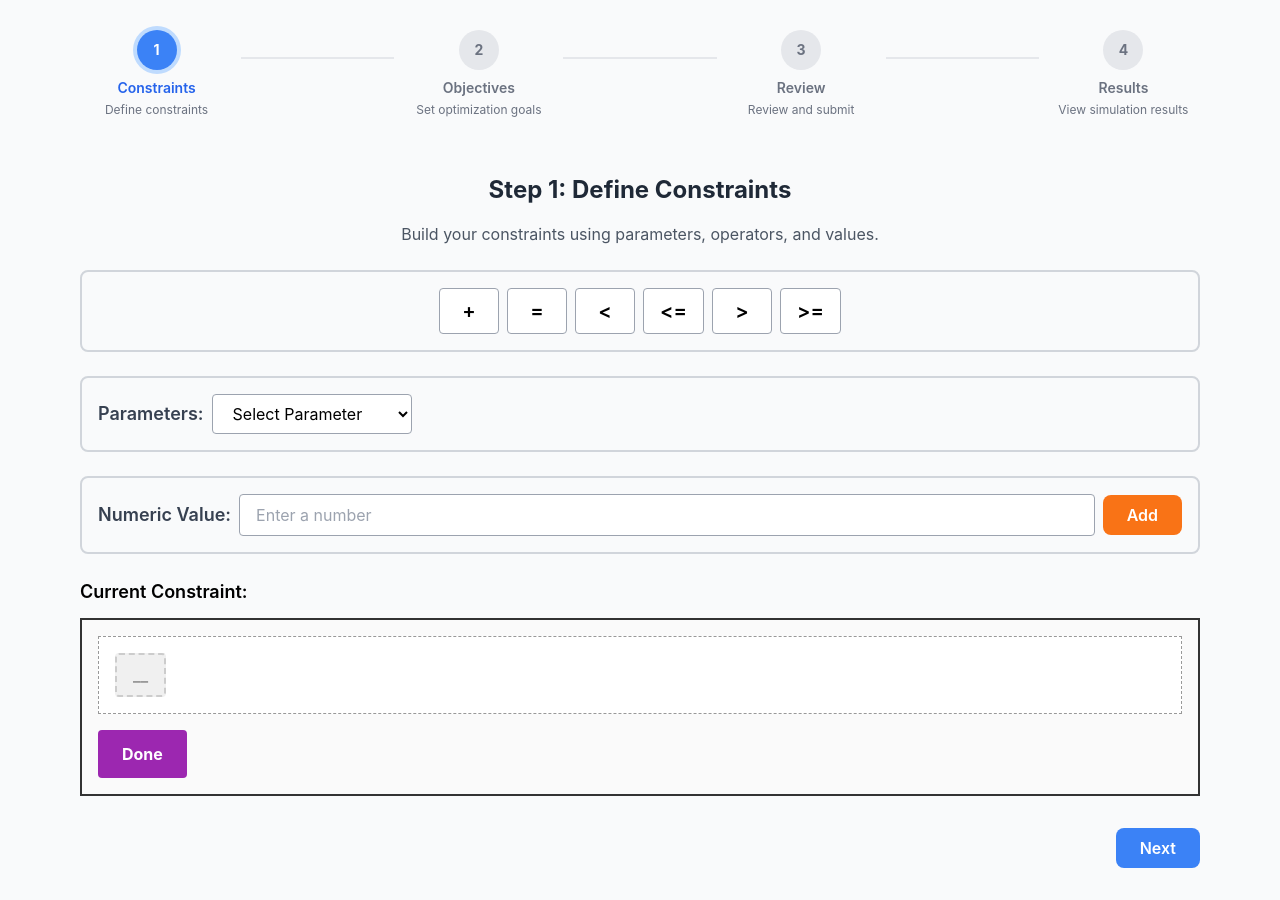
Test: Multi-Step Form Navigation › navigates back to Constraints when Back clicked
This screenshot has width=1280, height=900.
(page scrolled)
Go to step 2
Click the button with test id "next-button" at (1158, 848), box left=1116, top=828, right=1200, bottom=868
(page scrolled)
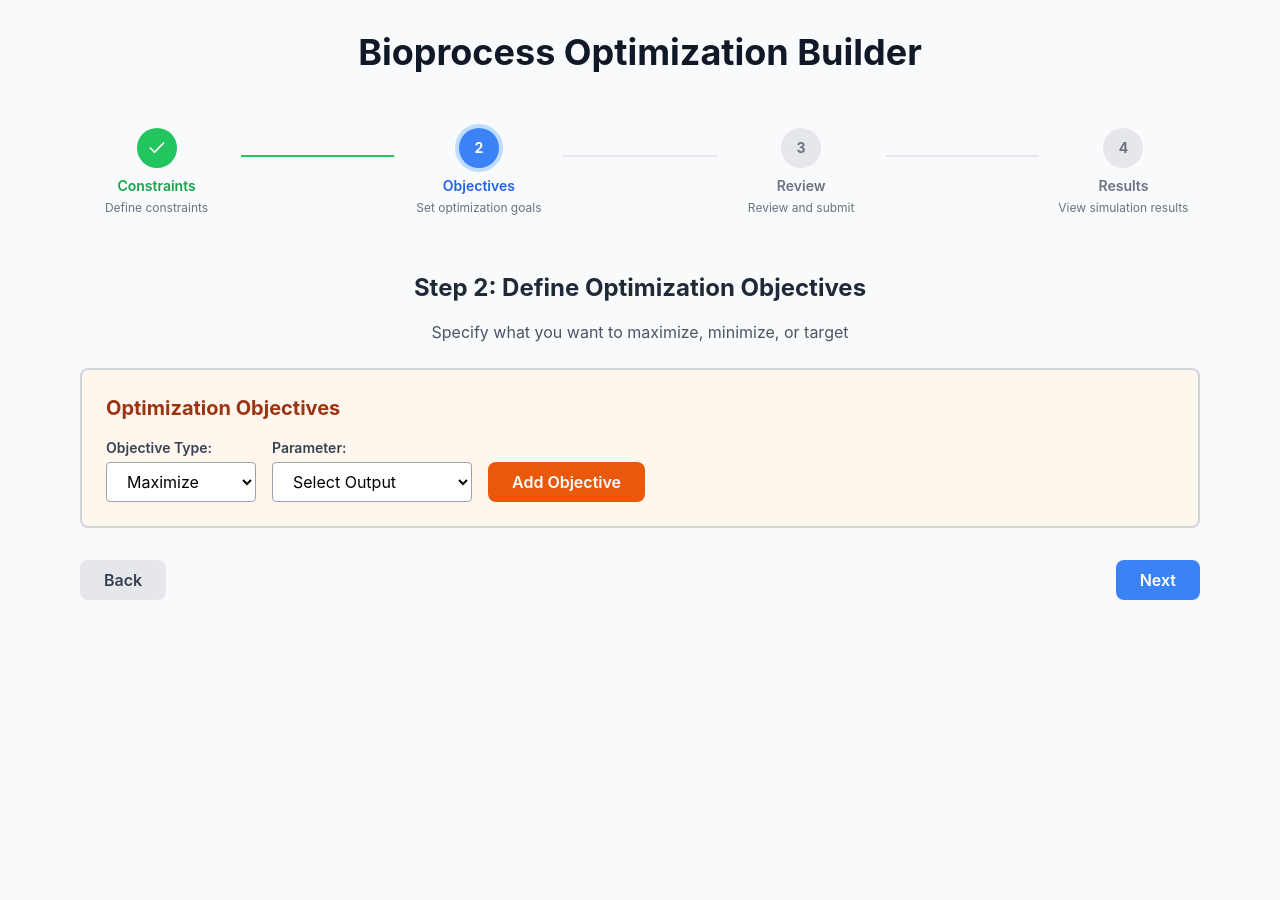
Check: the heading "Step 2: Define Optimization Objectives" is shown, box left=414, top=273, right=866, bottom=302
Go back to step 1
Click the button with test id "back-button" at (123, 580), box left=80, top=560, right=166, bottom=600
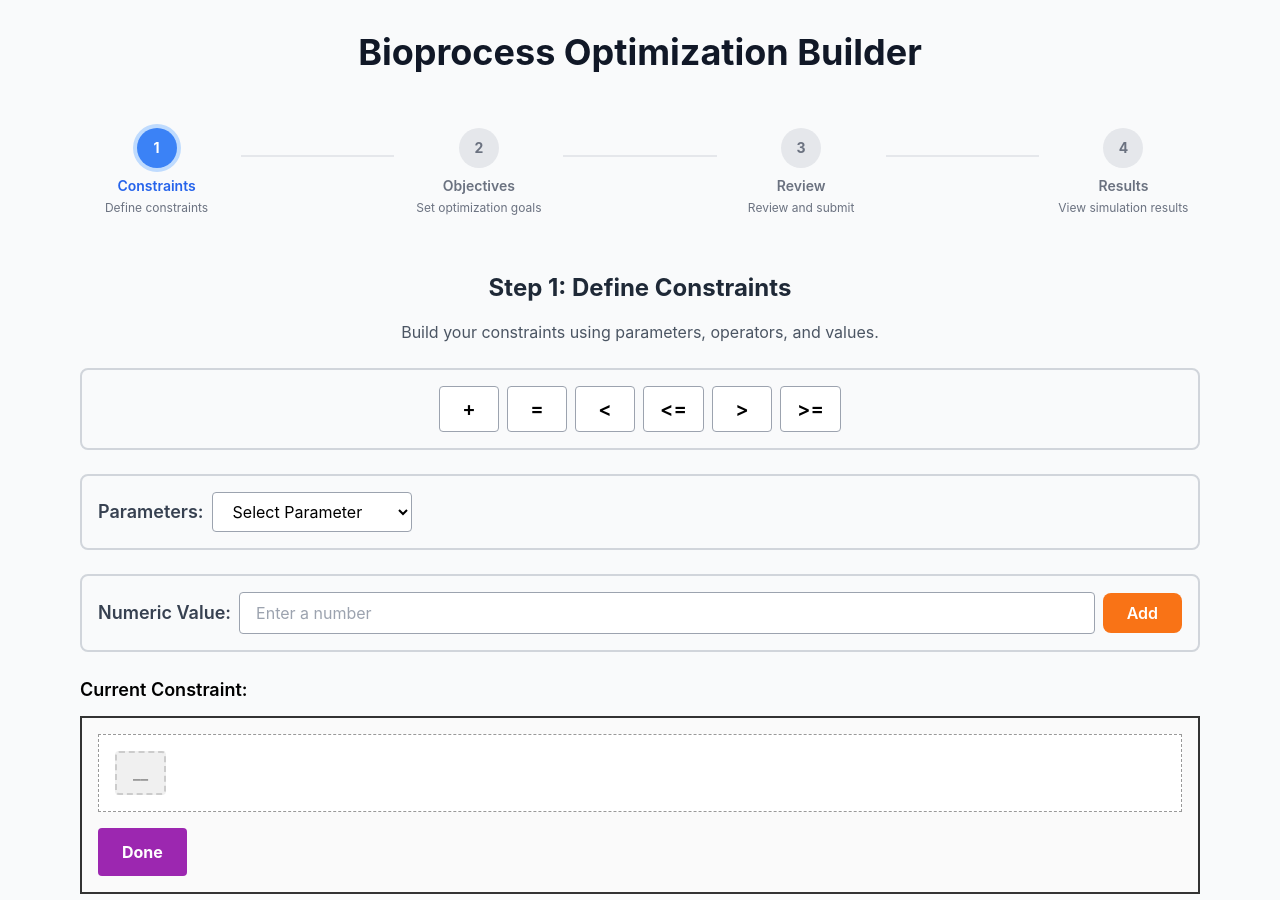
Check: the heading "Step 1: Define Constraints" is shown, box left=489, top=273, right=791, bottom=302
